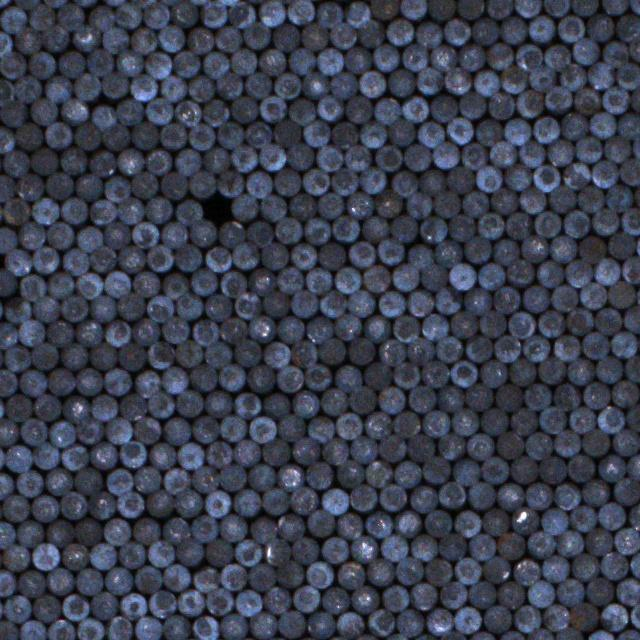tool: (316, 47, 344, 76), (544, 85, 572, 114), (18, 369, 47, 397), (246, 364, 275, 392), (568, 602, 597, 630), (56, 2, 84, 30), (271, 23, 299, 51), (86, 48, 114, 76), (257, 48, 285, 76), (486, 42, 514, 70), (514, 44, 542, 72), (416, 66, 444, 94), (572, 37, 600, 65), (586, 61, 614, 89), (488, 140, 516, 168), (248, 268, 276, 296), (537, 356, 565, 384), (219, 514, 247, 542), (2, 594, 30, 622), (32, 595, 60, 623), (350, 585, 378, 613), (438, 580, 466, 608), (527, 580, 555, 608), (483, 605, 511, 633), (586, 13, 613, 42), (344, 45, 371, 74), (116, 97, 143, 126), (334, 364, 361, 393), (5, 393, 32, 422), (175, 588, 204, 615), (556, 577, 583, 606), (169, 0, 197, 27), (227, 1, 255, 28), (73, 24, 100, 52), (386, 18, 414, 45), (528, 15, 555, 43), (557, 14, 584, 42), (13, 75, 40, 103), (44, 74, 71, 102), (144, 51, 171, 79), (288, 47, 315, 75), (444, 66, 471, 94), (528, 64, 555, 92), (61, 97, 88, 125), (145, 97, 172, 125), (200, 99, 228, 126), (230, 96, 258, 123), (344, 96, 372, 123), (373, 97, 400, 125), (401, 95, 429, 122), (601, 86, 629, 113), (272, 119, 300, 146), (330, 121, 357, 149), (15, 173, 43, 200), (474, 164, 501, 192), (447, 166, 474, 194), (31, 197, 58, 225), (130, 221, 158, 248), (61, 248, 88, 276), (173, 243, 201, 270), (504, 212, 532, 239), (260, 242, 287, 270), (520, 235, 548, 262), (362, 265, 390, 292), (448, 262, 475, 290), (346, 289, 374, 316), (464, 287, 491, 315), (276, 315, 304, 342), (305, 316, 333, 343), (421, 313, 448, 341), (148, 341, 175, 369), (189, 363, 216, 391), (364, 361, 391, 389), (421, 360, 448, 388), (566, 358, 594, 385), (594, 355, 622, 382), (62, 396, 89, 424), (377, 386, 404, 414), (248, 416, 275, 444), (596, 406, 624, 433), (538, 456, 565, 484), (234, 539, 262, 566), (205, 539, 232, 567), (454, 509, 481, 537), (162, 562, 189, 590), (90, 590, 117, 618), (540, 554, 568, 581), (571, 553, 598, 581), (205, 586, 232, 614), (234, 589, 262, 616), (497, 580, 524, 608), (513, 605, 540, 633), (600, 603, 627, 631), (128, 74, 157, 100), (302, 71, 328, 100), (19, 220, 45, 249), (243, 22, 270, 49), (301, 22, 328, 49), (471, 18, 498, 45), (27, 51, 54, 78), (172, 50, 199, 77), (358, 70, 385, 97), (388, 69, 415, 96), (430, 95, 457, 122), (573, 88, 600, 115), (303, 120, 330, 147), (45, 172, 72, 199), (2, 197, 29, 224), (189, 219, 216, 246), (548, 185, 575, 212), (606, 184, 633, 211), (31, 246, 58, 273), (88, 245, 115, 272), (434, 240, 461, 267), (190, 268, 217, 295), (146, 295, 173, 322), (319, 289, 346, 316), (493, 286, 520, 313), (75, 319, 102, 346), (161, 316, 188, 343), (507, 311, 534, 338), (175, 339, 202, 366), (163, 418, 190, 445), (510, 408, 537, 435), (74, 468, 101, 495), (247, 463, 274, 490), (393, 460, 420, 487), (174, 489, 201, 516), (31, 542, 58, 569), (275, 561, 302, 588), (367, 558, 394, 585), (527, 531, 554, 558), (584, 528, 611, 555), (292, 585, 319, 612), (336, 611, 363, 638), (0, 6, 26, 34), (88, 4, 114, 32), (200, 0, 226, 28), (102, 26, 128, 54), (130, 26, 156, 54), (214, 26, 242, 52), (328, 22, 356, 48), (358, 19, 384, 47), (442, 18, 470, 44), (500, 16, 526, 44), (72, 73, 100, 99), (373, 44, 399, 72), (402, 43, 428, 71), (330, 72, 358, 98), (499, 66, 527, 92), (0, 100, 28, 126), (316, 95, 344, 121), (516, 89, 542, 117), (476, 118, 502, 146), (533, 116, 559, 144), (75, 174, 103, 200), (533, 164, 559, 192), (231, 193, 257, 221), (376, 189, 402, 217), (118, 245, 144, 273), (332, 214, 358, 242), (563, 209, 589, 237), (276, 266, 302, 294), (334, 266, 360, 294), (506, 258, 532, 286), (536, 260, 562, 288), (564, 260, 592, 286), (406, 290, 434, 316), (608, 280, 634, 308), (132, 317, 158, 345), (117, 342, 143, 370), (48, 367, 74, 395), (76, 367, 102, 395), (104, 367, 130, 395), (134, 369, 160, 397), (218, 363, 244, 391), (276, 364, 302, 392), (450, 359, 476, 387), (480, 360, 506, 388), (508, 358, 534, 386), (119, 394, 147, 420), (176, 388, 202, 416), (205, 390, 231, 418), (582, 382, 610, 408), (132, 417, 160, 443), (218, 415, 246, 441), (539, 406, 565, 434), (438, 432, 464, 460), (525, 432, 551, 460), (106, 468, 132, 496), (480, 457, 508, 483), (567, 454, 593, 482), (204, 490, 230, 518), (72, 520, 100, 546), (162, 518, 190, 544), (276, 514, 304, 540), (176, 537, 202, 565), (512, 506, 538, 534), (541, 507, 567, 535), (598, 502, 624, 530), (89, 542, 115, 570), (146, 540, 174, 566), (468, 580, 494, 608), (586, 577, 612, 605), (220, 612, 246, 640), (278, 610, 304, 638), (28, 3, 54, 30), (114, 1, 140, 28), (344, 0, 370, 27), (15, 27, 42, 53), (415, 22, 442, 48), (0, 51, 26, 78), (116, 49, 142, 76), (101, 71, 127, 98), (202, 51, 228, 78), (159, 75, 186, 101), (187, 75, 214, 101), (458, 44, 484, 71), (216, 73, 242, 100), (244, 72, 271, 98), (273, 72, 300, 98), (544, 44, 570, 71), (559, 63, 585, 90), (30, 99, 57, 125), (44, 122, 70, 149), (102, 124, 129, 150), (387, 119, 414, 145), (446, 117, 472, 144), (503, 118, 530, 144), (561, 113, 587, 140), (3, 150, 29, 177), (231, 145, 257, 172), (259, 144, 285, 171), (432, 141, 458, 168), (160, 172, 187, 198), (273, 170, 300, 196), (331, 168, 357, 195), (504, 163, 530, 190), (563, 162, 589, 189), (591, 160, 617, 187), (260, 194, 286, 221), (290, 194, 316, 221), (433, 190, 459, 217), (577, 185, 603, 212), (46, 222, 73, 248), (146, 244, 172, 271), (218, 221, 244, 248), (245, 221, 272, 247), (274, 217, 301, 243), (304, 218, 330, 245), (448, 213, 474, 240), (103, 270, 130, 296), (220, 270, 246, 297), (305, 267, 331, 294), (594, 257, 620, 284), (4, 297, 30, 324), (32, 296, 59, 322), (60, 295, 87, 321), (90, 295, 116, 322), (176, 292, 202, 319), (290, 290, 317, 316), (435, 287, 461, 314), (18, 319, 44, 346), (192, 319, 218, 346), (538, 309, 564, 336), (565, 308, 592, 334), (594, 308, 621, 334), (30, 343, 56, 370), (89, 343, 115, 370), (203, 342, 230, 368), (290, 340, 316, 367), (378, 340, 405, 366), (436, 335, 462, 362), (304, 363, 330, 390), (393, 361, 419, 388), (90, 394, 116, 421), (233, 392, 260, 418), (292, 391, 318, 418), (349, 386, 375, 413), (20, 418, 46, 445), (105, 417, 131, 444), (278, 414, 304, 441), (335, 412, 361, 439), (392, 412, 419, 438), (481, 408, 507, 435), (16, 470, 42, 497), (32, 442, 58, 469), (119, 440, 145, 467), (148, 442, 174, 469), (176, 442, 202, 469), (292, 437, 318, 464), (350, 436, 376, 463), (378, 434, 404, 461), (611, 429, 638, 455), (44, 468, 71, 494), (218, 464, 245, 490), (336, 459, 362, 486), (452, 460, 479, 486), (88, 491, 114, 518), (116, 491, 143, 517), (46, 520, 73, 546), (103, 518, 130, 544), (349, 484, 375, 511), (570, 505, 596, 532), (105, 567, 132, 593), (45, 568, 72, 594), (120, 592, 146, 619), (248, 564, 275, 590), (306, 561, 332, 588), (396, 558, 423, 584), (438, 532, 465, 558), (497, 532, 523, 559), (556, 529, 582, 556), (613, 528, 640, 554), (454, 557, 480, 584), (512, 559, 539, 585), (601, 552, 627, 579), (263, 586, 290, 612), (306, 612, 333, 638), (397, 609, 423, 636), (426, 607, 452, 634), (454, 606, 480, 633), (57, 52, 85, 77), (416, 122, 444, 147), (161, 220, 186, 248), (363, 314, 388, 342), (393, 314, 418, 342), (49, 420, 74, 448), (407, 434, 432, 462), (305, 461, 330, 489), (496, 484, 524, 509), (118, 540, 143, 568), (162, 615, 190, 640), (368, 608, 393, 636), (162, 365, 186, 394), (258, 0, 284, 26), (42, 25, 68, 51), (158, 25, 184, 51), (187, 27, 213, 53), (230, 48, 256, 74), (430, 44, 456, 70), (602, 41, 628, 67), (459, 92, 485, 118), (488, 92, 514, 118), (16, 124, 42, 150), (132, 123, 158, 149), (188, 124, 214, 150), (216, 122, 242, 148), (245, 122, 271, 148), (359, 122, 385, 148), (589, 112, 615, 138), (117, 148, 143, 174), (145, 149, 171, 175), (344, 145, 370, 171), (404, 144, 430, 170), (603, 136, 629, 162), (103, 176, 129, 202), (131, 171, 157, 197), (217, 171, 243, 197), (359, 167, 385, 193), (419, 170, 445, 196), (60, 198, 86, 224), (117, 198, 143, 224), (145, 197, 171, 223), (462, 191, 488, 217), (519, 187, 545, 213), (4, 248, 30, 274), (420, 216, 446, 242), (290, 243, 316, 269), (318, 243, 344, 269), (492, 239, 518, 265), (48, 273, 74, 299), (76, 272, 102, 298), (162, 273, 188, 299), (478, 263, 504, 289), (118, 293, 144, 319), (204, 294, 230, 320), (234, 292, 260, 318), (263, 290, 289, 316), (379, 290, 405, 316), (580, 282, 606, 308), (60, 343, 86, 369), (408, 338, 434, 364), (610, 331, 636, 357), (148, 391, 174, 417), (408, 386, 434, 412), (465, 384, 491, 410), (524, 383, 550, 409), (552, 384, 578, 410), (364, 412, 390, 438), (90, 442, 116, 468), (205, 442, 231, 468), (262, 440, 288, 466), (496, 432, 522, 458), (582, 430, 608, 456), (162, 468, 188, 494), (276, 465, 302, 491), (365, 460, 391, 486), (423, 456, 449, 482), (32, 495, 58, 521), (233, 490, 259, 516), (290, 487, 316, 513), (380, 534, 406, 560), (410, 534, 436, 560), (321, 537, 347, 563), (18, 571, 44, 597), (148, 591, 174, 617), (425, 559, 451, 585), (482, 556, 508, 582), (382, 585, 408, 611), (250, 612, 276, 638), (143, 2, 168, 29), (317, 1, 342, 28), (259, 97, 286, 122), (289, 99, 314, 126), (175, 148, 200, 175), (286, 144, 313, 169), (535, 210, 560, 237), (232, 242, 257, 269), (550, 236, 575, 263), (579, 236, 604, 263), (609, 231, 634, 258), (421, 264, 446, 291), (552, 284, 577, 311), (47, 320, 72, 347), (220, 318, 247, 343), (249, 315, 274, 342), (334, 313, 361, 338), (479, 310, 504, 337), (263, 341, 288, 368), (495, 335, 520, 362), (34, 394, 59, 421), (495, 384, 520, 411), (450, 410, 477, 435), (568, 407, 595, 432), (134, 466, 159, 493), (192, 465, 217, 492), (511, 456, 536, 483), (307, 510, 334, 535), (614, 477, 639, 504), (1, 545, 28, 570), (134, 566, 161, 591), (61, 594, 88, 619), (410, 583, 435, 610), (286, 0, 314, 24), (91, 104, 115, 132), (524, 284, 548, 312), (452, 310, 476, 338), (544, 603, 568, 631), (74, 124, 99, 150), (160, 123, 185, 149), (30, 148, 56, 173), (60, 148, 85, 174), (375, 145, 400, 171), (519, 141, 544, 167), (546, 140, 572, 165), (575, 137, 601, 162), (246, 172, 271, 198), (302, 169, 328, 194), (391, 171, 417, 196), (176, 200, 201, 226), (347, 192, 372, 218), (362, 216, 388, 241), (391, 216, 416, 242), (477, 213, 503, 238), (205, 246, 230, 272), (349, 241, 374, 267), (377, 238, 402, 264), (464, 237, 489, 263), (132, 271, 158, 296), (393, 264, 418, 290), (234, 340, 259, 366), (466, 336, 491, 362), (554, 335, 579, 361), (321, 388, 346, 414), (612, 381, 637, 407), (76, 418, 102, 443), (192, 417, 218, 442), (322, 438, 348, 463), (554, 430, 579, 456), (60, 492, 85, 518), (147, 490, 172, 516), (262, 487, 288, 512), (322, 488, 347, 514), (366, 512, 392, 537), (379, 485, 405, 510), (394, 511, 420, 536), (411, 486, 436, 512), (439, 482, 464, 508), (425, 510, 450, 536), (291, 538, 317, 563), (526, 483, 551, 509), (483, 509, 508, 535), (76, 568, 101, 594), (220, 563, 246, 588), (322, 587, 348, 612), (615, 578, 640, 604), (192, 615, 218, 640), (474, 68, 498, 95), (89, 151, 116, 175), (202, 148, 229, 172), (190, 170, 214, 197), (105, 221, 129, 248), (594, 208, 618, 235), (20, 274, 44, 301), (6, 445, 30, 472), (60, 446, 87, 470), (234, 439, 258, 466), (192, 515, 216, 542), (352, 535, 376, 562), (192, 568, 219, 592), (491, 189, 516, 214), (348, 338, 373, 363), (523, 336, 548, 361), (307, 417, 332, 442), (467, 434, 492, 459), (468, 482, 493, 507), (554, 484, 579, 509), (63, 543, 88, 568), (469, 533, 494, 558), (616, 15, 640, 41), (616, 62, 640, 88), (174, 101, 200, 125), (316, 147, 342, 171), (462, 144, 486, 170), (90, 200, 116, 224), (318, 192, 342, 218), (407, 192, 431, 218), (78, 226, 102, 252), (408, 245, 432, 271), (4, 347, 30, 371), (319, 337, 343, 363), (583, 332, 607, 358), (264, 393, 288, 419), (438, 385, 462, 411), (598, 456, 624, 480), (3, 494, 27, 520), (133, 518, 159, 542), (264, 538, 288, 564), (134, 616, 160, 640), (339, 562, 363, 588), (424, 411, 448, 436), (251, 518, 276, 542), (105, 320, 128, 346), (76, 617, 102, 640), (18, 522, 42, 546), (107, 616, 131, 640), (617, 113, 640, 138), (337, 513, 360, 538), (48, 618, 74, 640), (619, 158, 640, 185), (583, 481, 607, 504), (18, 619, 44, 640), (456, 0, 484, 19), (621, 208, 640, 235), (370, 0, 398, 18), (428, 0, 453, 20), (400, 0, 426, 19), (622, 256, 640, 283), (0, 368, 17, 396), (487, 0, 512, 19), (514, 0, 540, 18), (0, 322, 16, 350), (624, 354, 640, 382), (0, 419, 17, 445), (624, 305, 640, 332), (542, 0, 568, 16), (0, 227, 16, 253), (626, 404, 640, 432), (0, 472, 14, 500), (571, 0, 597, 15), (0, 270, 16, 294), (602, 0, 628, 14), (0, 128, 14, 154), (0, 174, 13, 202), (0, 522, 14, 548), (0, 570, 14, 596), (526, 627, 554, 640), (0, 78, 13, 105), (555, 627, 582, 640), (626, 454, 640, 478), (0, 30, 11, 58), (0, 621, 16, 640), (629, 503, 640, 529)
void: (198, 194, 230, 222)
